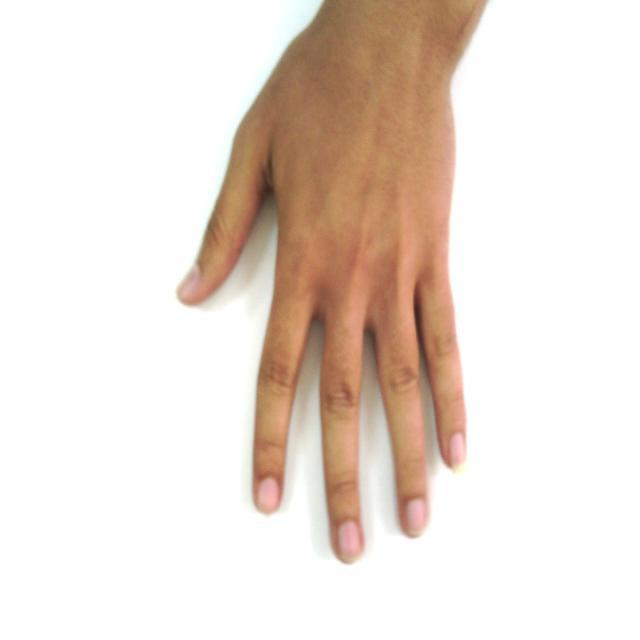Fingernail: (338, 520, 362, 562), (405, 499, 427, 535), (258, 478, 279, 513), (449, 433, 465, 470), (178, 267, 199, 295)
